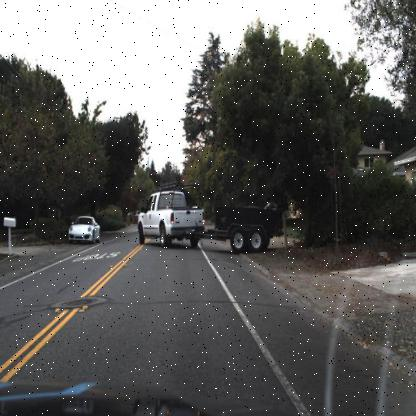car: (70, 215, 100, 243)
truck: (136, 177, 282, 254)
